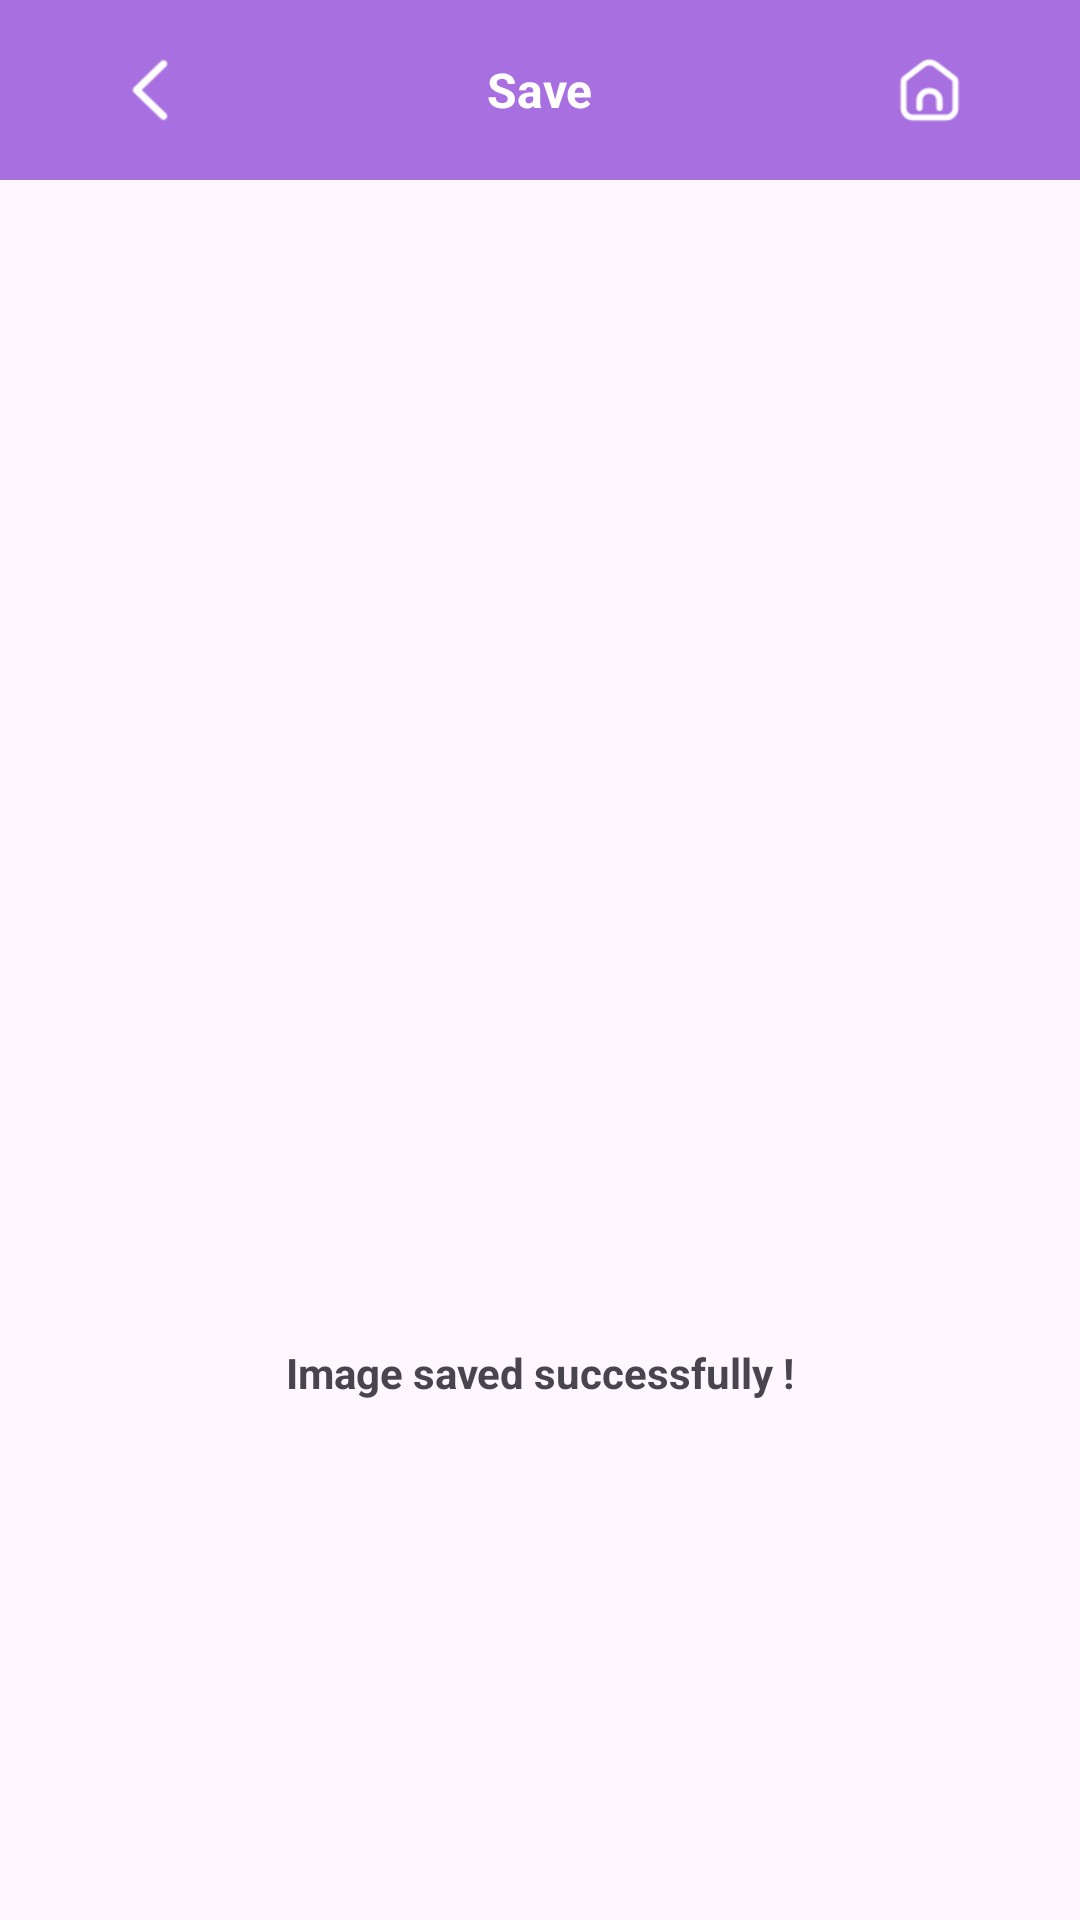

Icon bounding boxes for this 1080px x 1920px phone screenshot, format bbox=(x1, y1, x2, y2):
back: bbox=(132, 60, 168, 120)
home: bbox=(900, 59, 959, 121)
